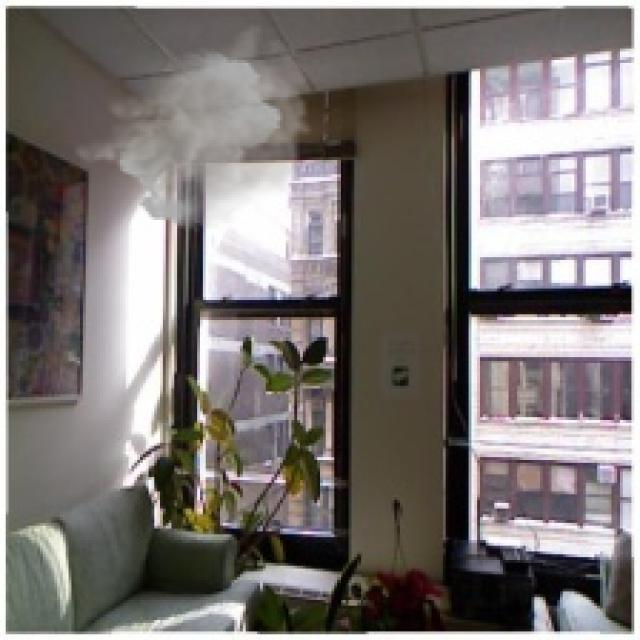Smoke: (72, 22, 314, 232)
